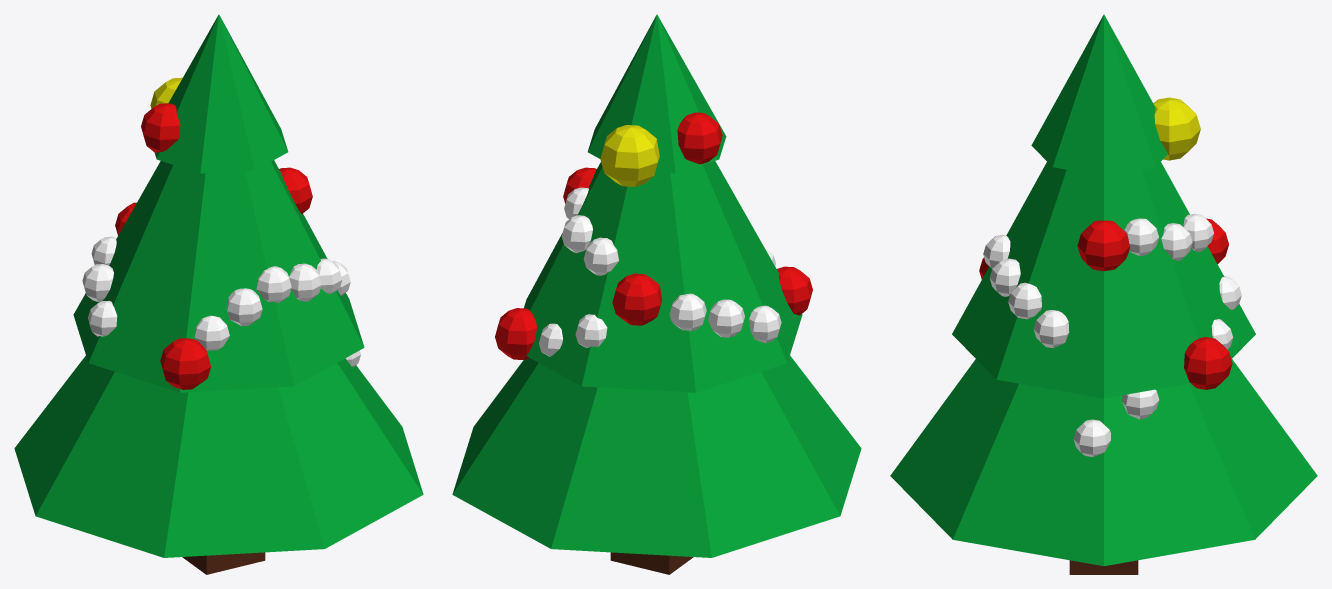
Rendered from arbolito.fbx.
3 renders of one model, left to right at view 1: azimuth 30°, elevation 25°; view 2: azimuth 150°, elevation 25°; view 3: azimuth 270°, elevation 25°, orthographic.
Visible parts, largest first — view 1: Cone, Cone.001, Cone.002, Sphere.004, Sphere.002, Cube, Sphere.012, Sphere.011, Sphere.010, Sphere.013, Sphere.015, Sphere (+3 smaller); view 2: Cone, Cone.001, Cone.002, Sphere.021, Sphere.003, Sphere.002, Sphere.001, Sphere.004, Cube, Sphere.015, Sphere.014, Sphere.005 (+5 smaller); view 3: Cone, Cone.001, Cone.002, Sphere.021, Sphere, Sphere.001, Sphere.020, Sphere.008, Sphere.007, Sphere.009, Sphere.010, Sphere.006 (+6 smaller).
Boxes of the visible parts, box(x1,y1,x2,y2) form: Cone: box(14, 355, 423, 557); Cone.001: box(73, 160, 364, 392); Cone.002: box(155, 14, 288, 173); Sphere.004: box(160, 338, 210, 389); Sphere.002: box(141, 103, 180, 152); Cube: box(182, 552, 265, 574); Sphere.012: box(226, 288, 262, 326); Sphere.011: box(256, 266, 291, 302); Sphere.010: box(289, 263, 321, 301); Sphere.013: box(194, 315, 229, 350); Sphere.015: box(82, 264, 113, 302); Sphere: box(279, 167, 312, 213); Cone: box(452, 355, 861, 557); Cone.001: box(524, 161, 802, 392); Cone.002: box(587, 14, 726, 173); Sphere.021: box(600, 125, 659, 186); Sphere.003: box(612, 273, 661, 325); Sphere.002: box(677, 112, 722, 164); Sphere.001: box(495, 308, 536, 359); Sphere.004: box(777, 266, 812, 315); Cube: box(610, 552, 693, 574); Sphere.015: box(708, 299, 744, 337); Sphere.014: box(669, 293, 706, 331); Sphere.005: box(583, 237, 618, 275); Cone: box(890, 359, 1317, 566); Cone.001: box(952, 162, 1255, 398); Cone.002: box(1031, 14, 1167, 175); Sphere.021: box(1153, 97, 1200, 160); Sphere: box(1077, 220, 1129, 271); Sphere.001: box(1184, 337, 1232, 389); Sphere.020: box(1073, 419, 1110, 457); Sphere.008: box(1033, 310, 1069, 347); Sphere.007: box(1124, 218, 1158, 256); Sphere.009: box(1008, 282, 1041, 319); Sphere.010: box(989, 258, 1020, 296); Sphere.006: box(1161, 223, 1192, 260).
Size of the model in its own units: 711 by 1003 by 711.
